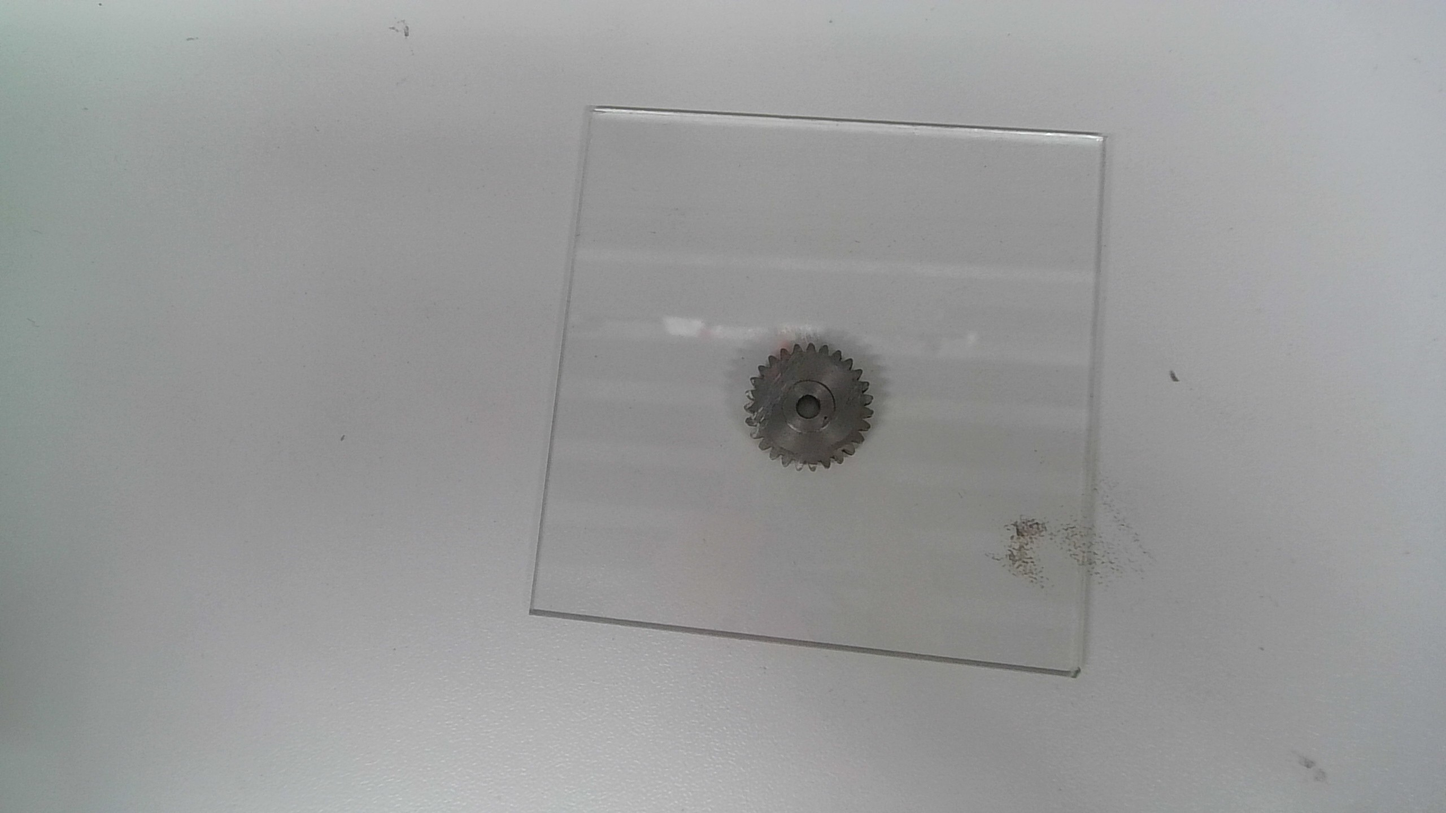gear: (742, 341, 878, 474)
